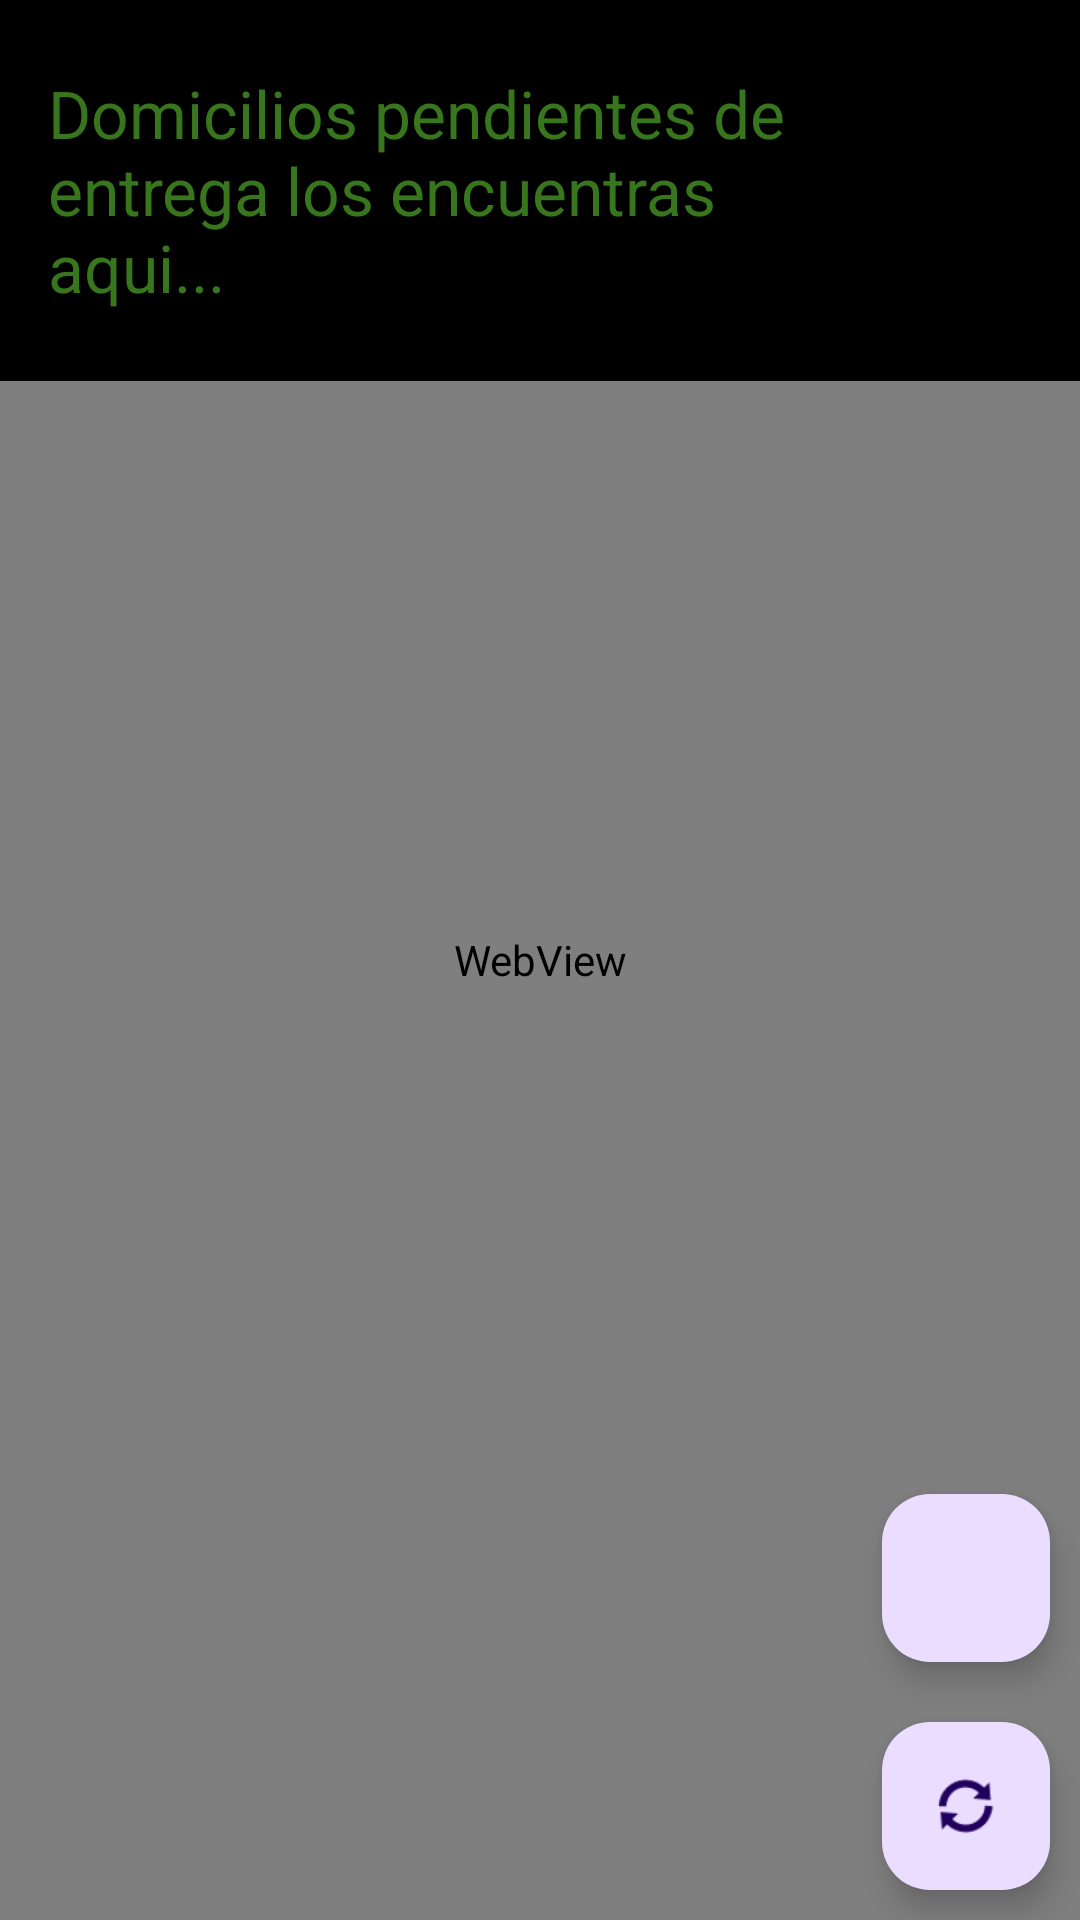

Named icons in this screenshot (1080px×1920px) and their centers, (x=x, y=y):
popup sync: (x=966, y=1806)
